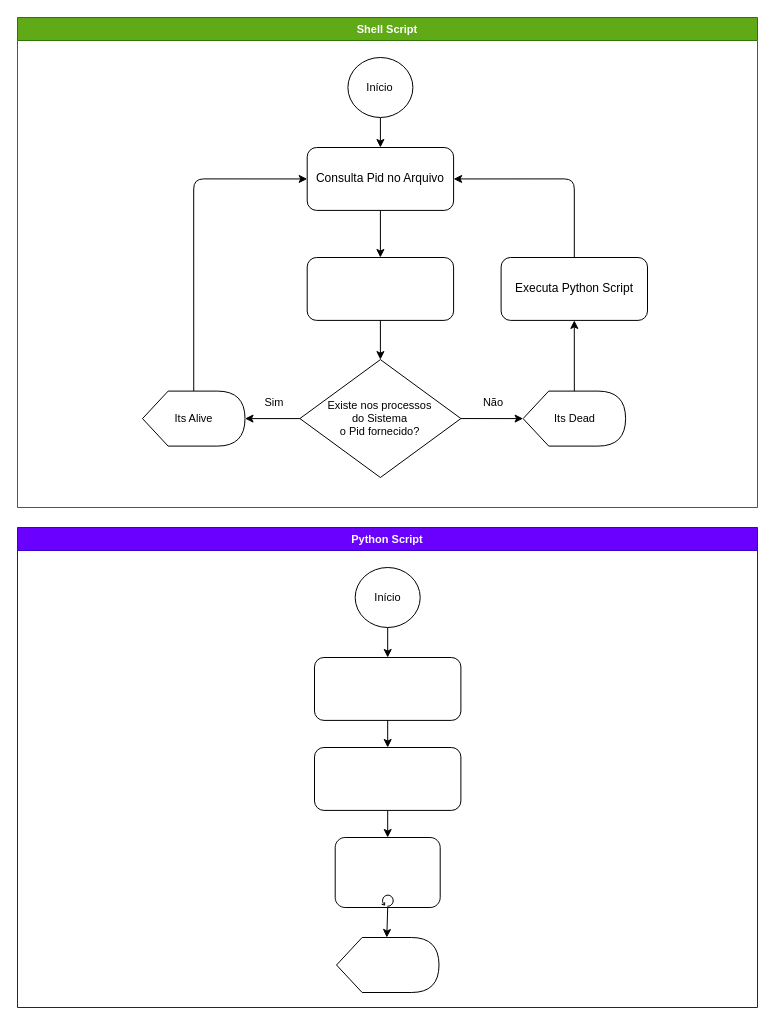
Some shapes in this 775 by 1025 pixel diagram are drawn without their labels. Here are the shapes that lost their labels. From the top down, the centre of each, then its label:
At point (380, 288): "Consulta Processos do Sistema".
At point (387, 688): "Consulta o próprio pid".
At point (387, 778): "Escreve o pid no arquivo".
At point (387, 872): "Escreve 'Im Alive' 3x".
At point (387, 964): "Now Im Dead".
